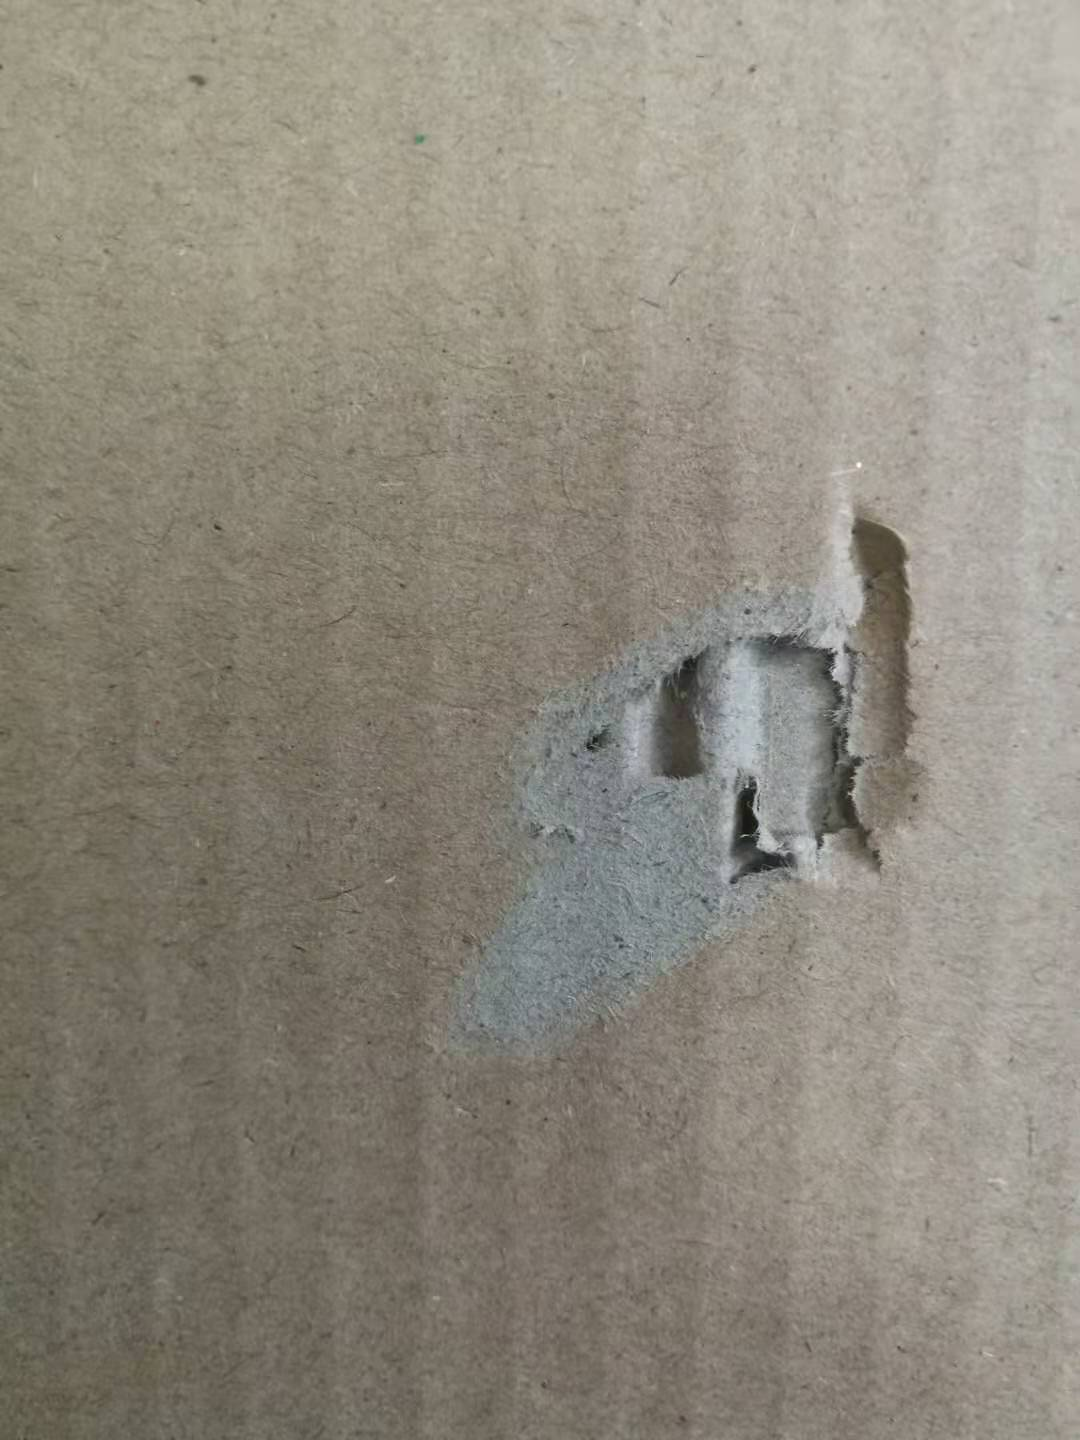defect: (406, 471, 974, 1092)
